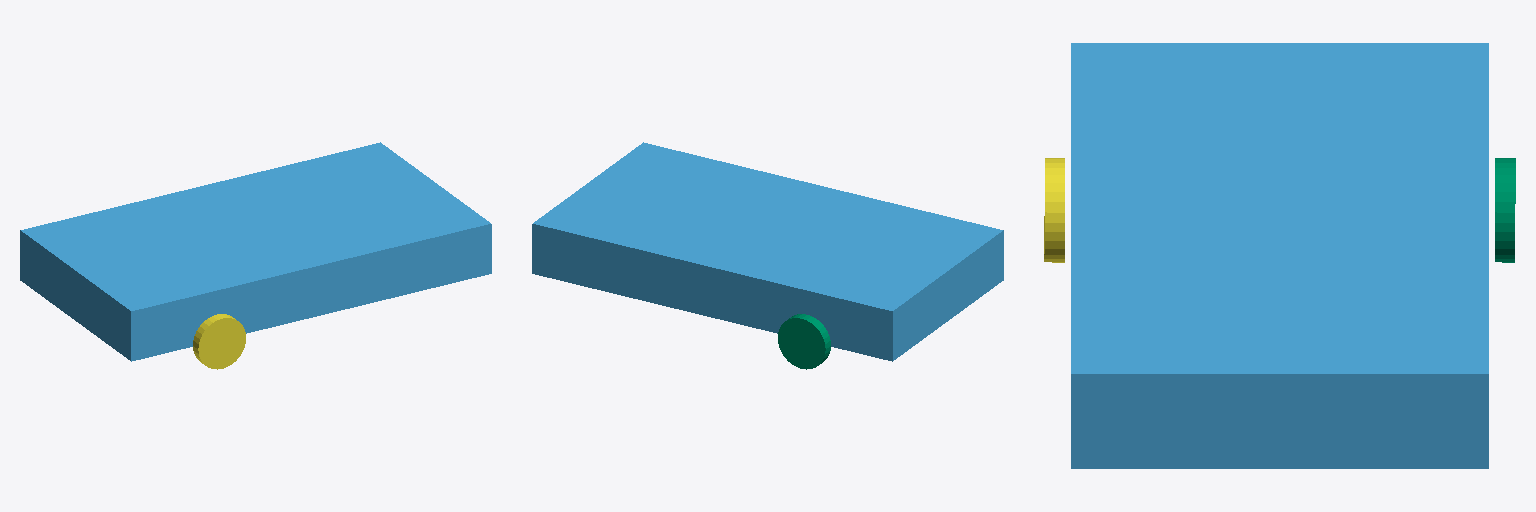
The robot description file, URDF, robot "maze_bot":
<?xml version="1.0" encoding="UTF-8"?>
<robot name="maze_bot">

    <material name="red">
        <color rgba="1.0 0.0 0.0 1.0"/>
    </material>
    <material name="white">
        <color rgba="1.0 1.0 0.8 1.0"/>
    </material>

    <link name="base_footprint"/>

    <link name="base">
        <visual>
            <geometry>
                <box size="0.75 0.4 0.1"/> 
                <material name="white"/>   
            </geometry>
        </visual>

        <collision>
            <geometry>
                <box size="0.75 0.4 0.1"/>   
            </geometry>
            <contact_coefficients mu="0" kp="1000.0" kd="1.0" />
        </collision>
    </link>

    <joint name="base" type="fixed">
        <parent link="base_footprint"/>
        <child link="base"/>
        <origin rpy="0 0 0" xyz="0 0 0.135"/>
    </joint>

    <link name="wheel_l">
        <visual>
            <geometry>
                <cylinder radius="0.05" length="0.02"/>
                <material name="red"/>
            </geometry>
        </visual>
    </link>

    <joint name="base_wheel_r
    l" type="continuous">
        <parent link="base"/>
        <child link="wheel_l"/>
        <origin rpy="1.57 0.0 0.0" xyz="-0.2 0.215 -0.045"/>
    </joint>

    <link name="wheel_r">
        <visual>
            <geometry>
                <cylinder radius="0.05" length="0.02"/>
                <material name="red"/>
            </geometry>
        </visual>
    </link>

    <joint name="base_wheel_r" type="continuous">
        <parent link="base"/>
        <child link="wheel_r"/>
        <origin rpy="1.57 0.0 0.0" xyz="-0.2 -0.215 -0.045"/>
    </joint>
</robot>

--- What the picture shows (computed from the rendered views, not written in the file) ---
Views: 3 orthographic renders of the robot side by side, from view 1: azimuth 30°, elevation 25°; view 2: azimuth 150°, elevation 25°; view 3: azimuth 270°, elevation 25°.
Robot: maze_bot — 4 links, 3 joints (2 continuous, 1 fixed); root link base_footprint; default pose: all joints at 0.
Links seen in each view (by area): view 1: base, wheel_r; view 2: base, wheel_l; view 3: base, wheel_l, wheel_r.
Link boxes in pixels (box(x1,y1,x2,y2)): base: box(20, 142, 491, 361); wheel_r: box(193, 314, 245, 369); base: box(532, 142, 1003, 361); wheel_l: box(778, 314, 830, 369); base: box(1071, 43, 1488, 468); wheel_l: box(1495, 158, 1515, 262); wheel_r: box(1044, 158, 1064, 262).
Bounding box of the posed robot: 0.75 × 0.4501 × 0.145 m (x, y, z).
Geometry: primitives only (box / cylinder / sphere), no mesh files.